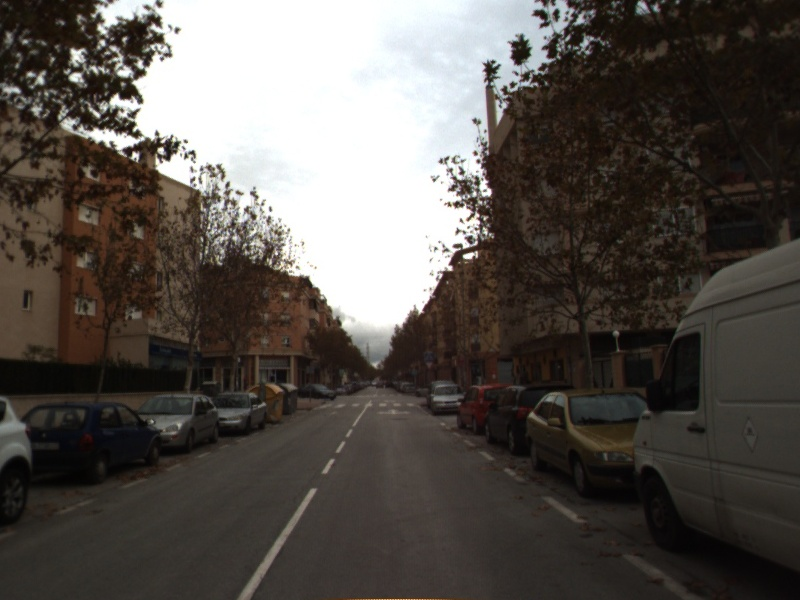STRAIGHT_LEFT_RIGHT: (374, 406, 413, 417)
